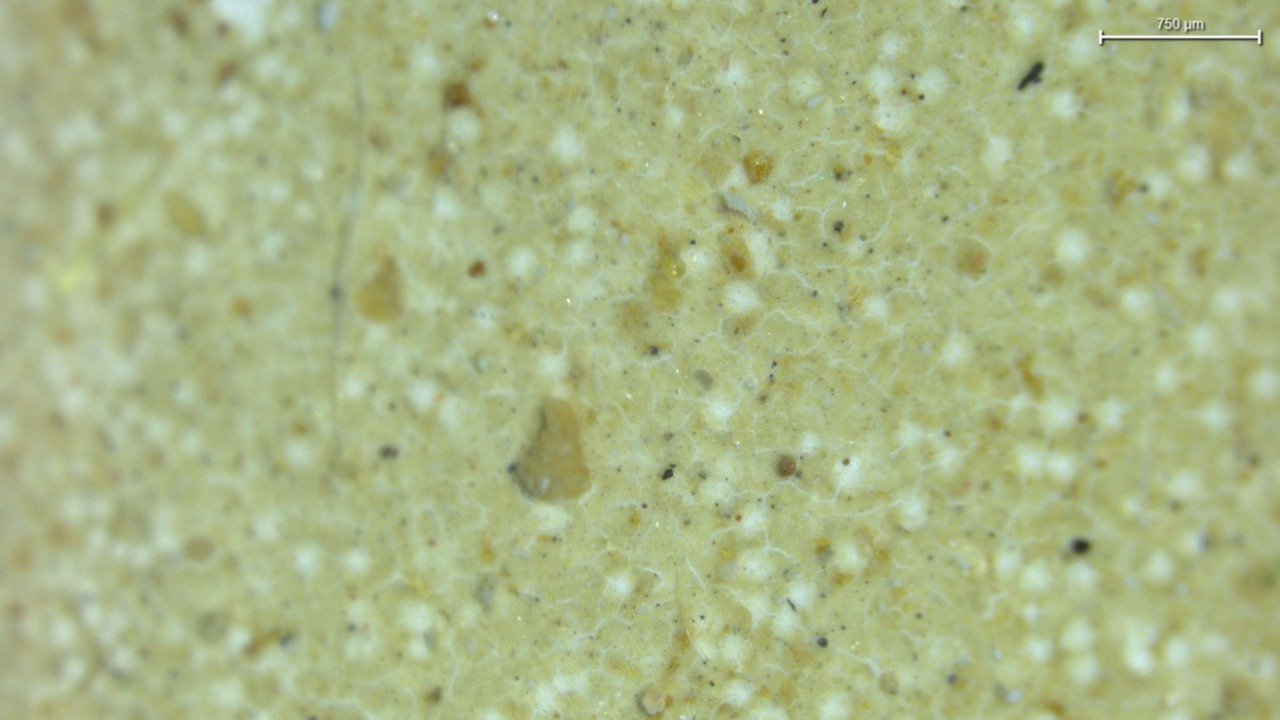microplastic_fragment: (510, 399, 595, 502), (720, 191, 757, 220)
